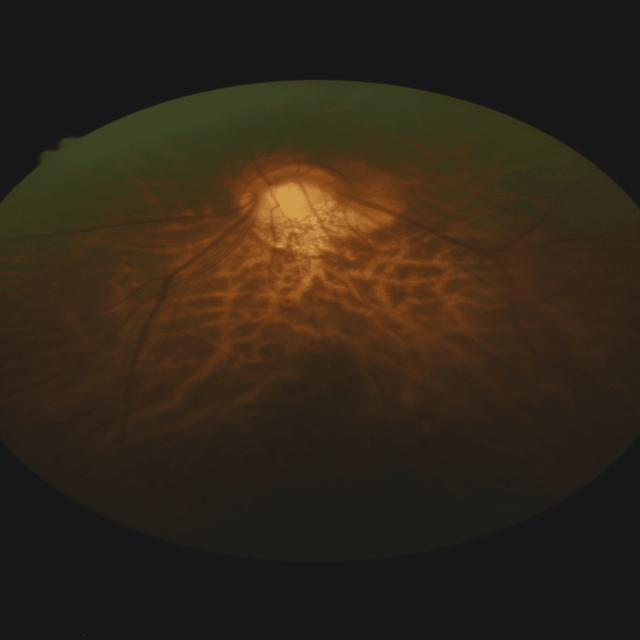cup: (260, 178, 328, 210)
disk: (238, 162, 346, 222)
